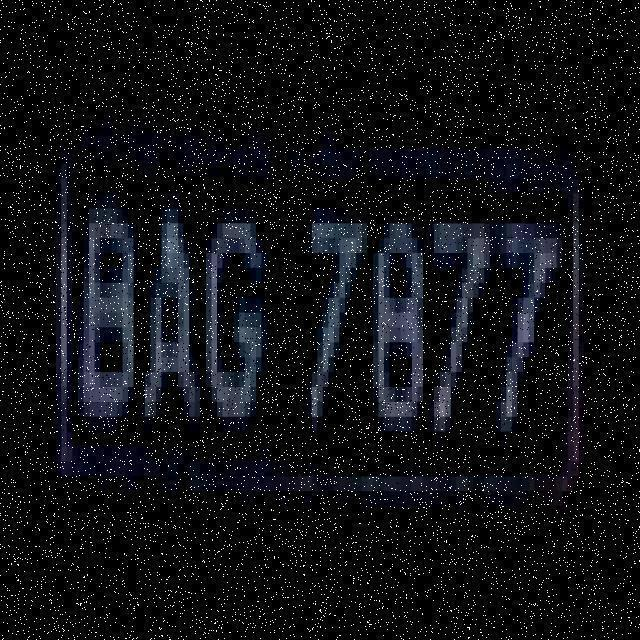license-plate: (56, 191, 594, 458)
